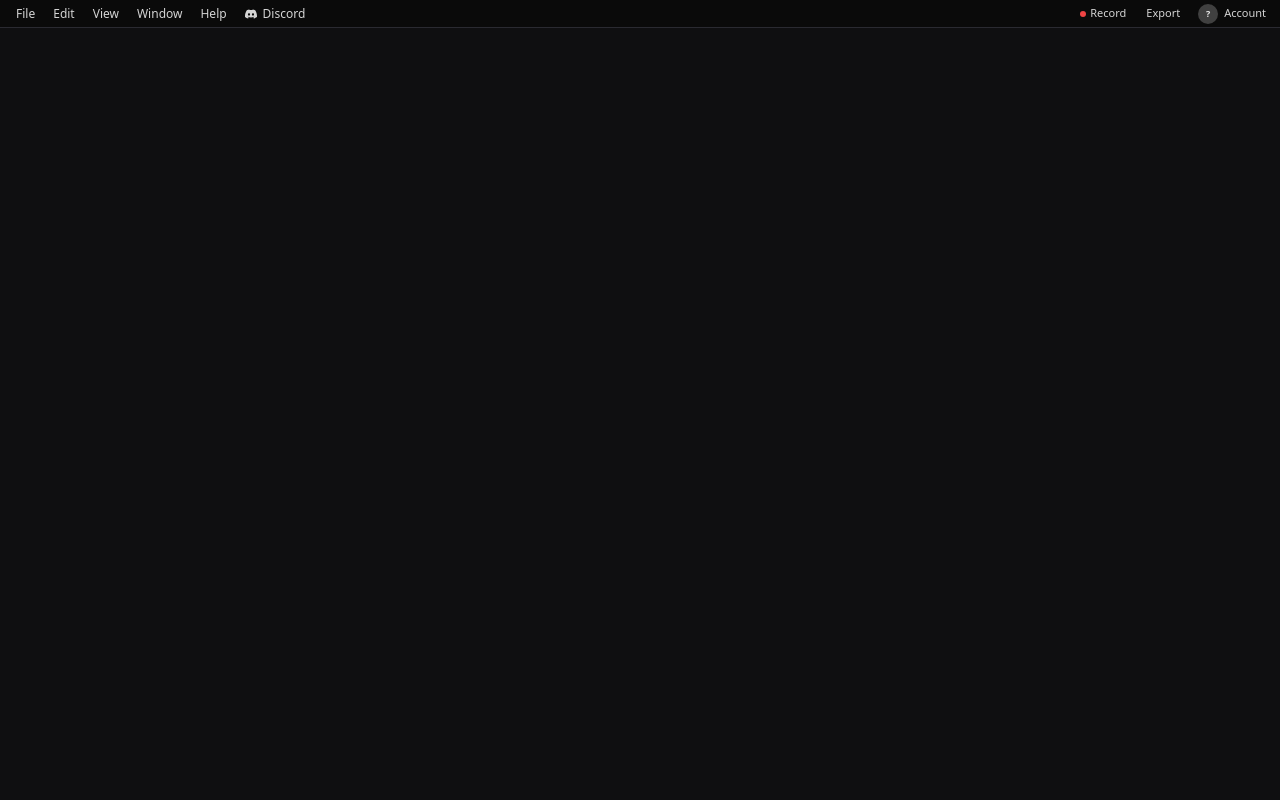
Export Video → Save As › renders to the folder the user picked, through the same export tool
Click the button "File" at (26,14), box [8,2,43,24]
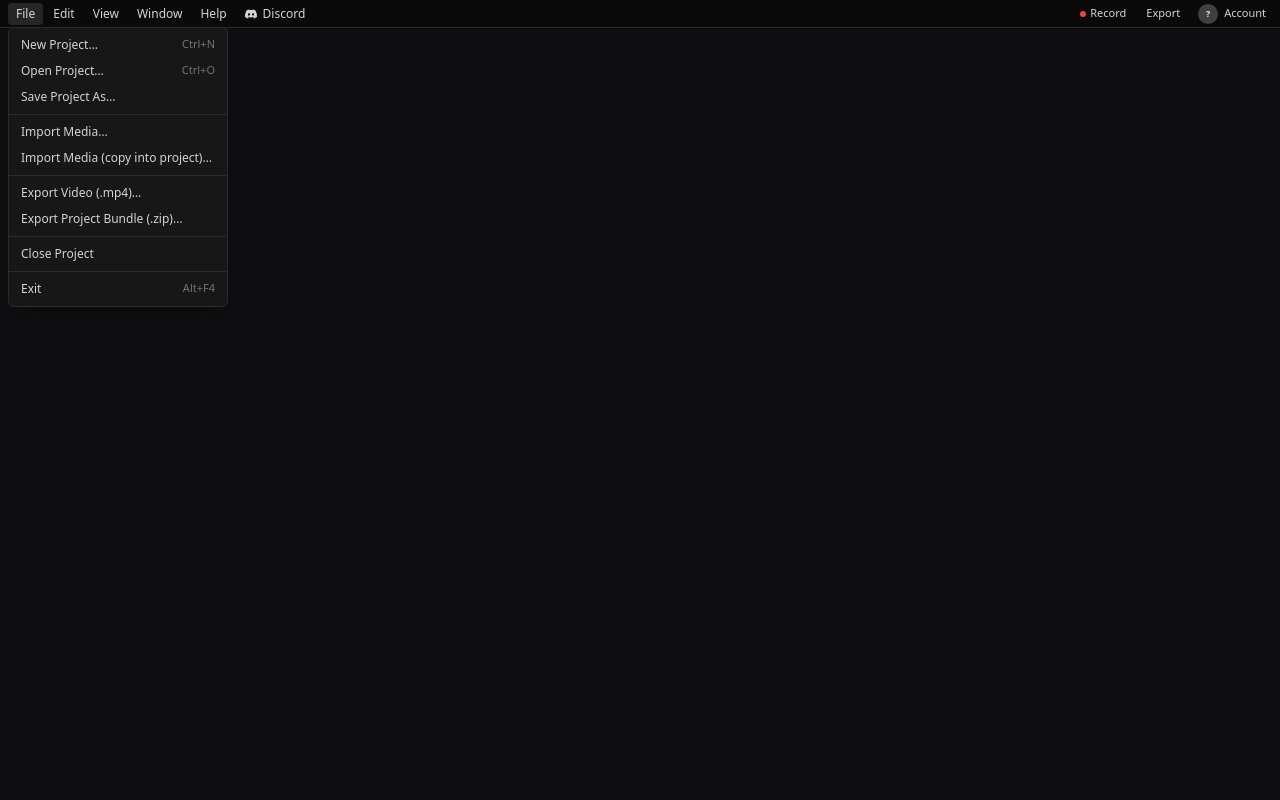
Click the button "Export Video (.mp4)…" at (118,192), box [9,180,227,206]
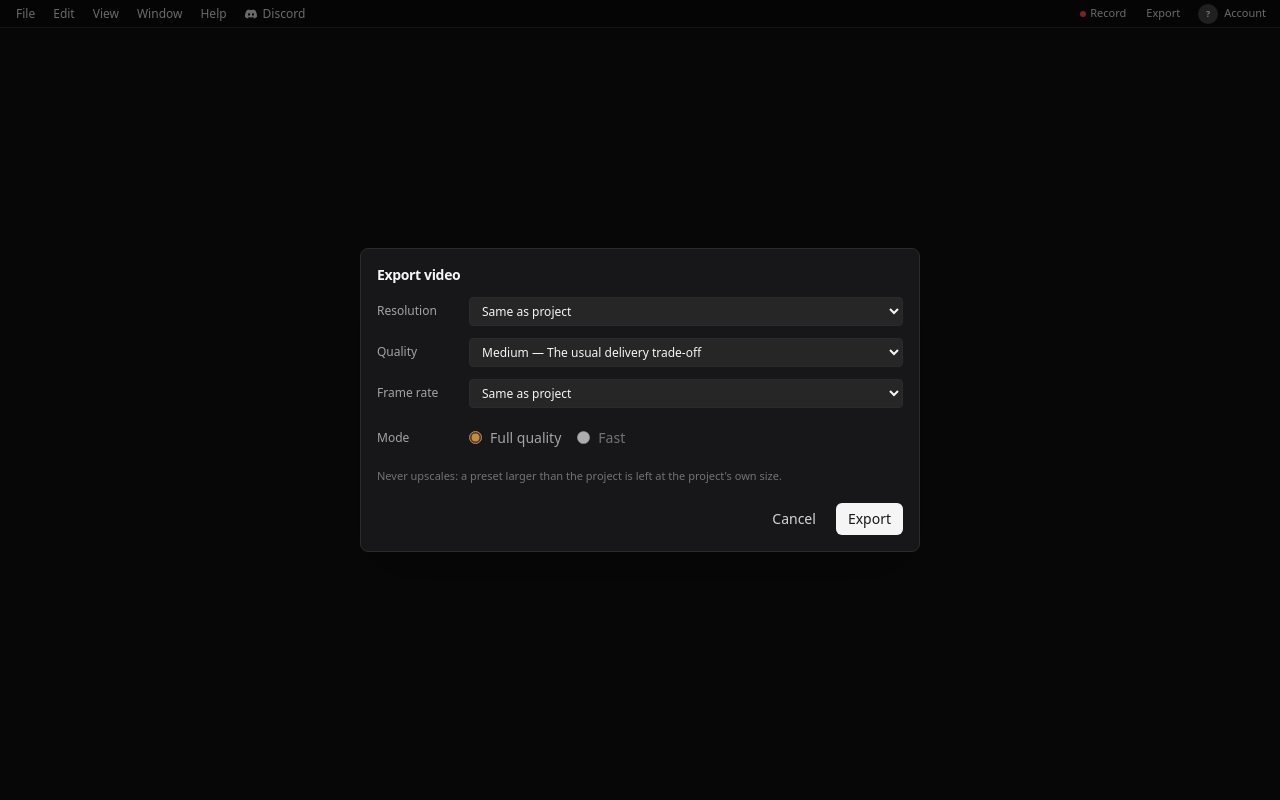
Click the button "Export" at (869,519), box [836,503,903,535]
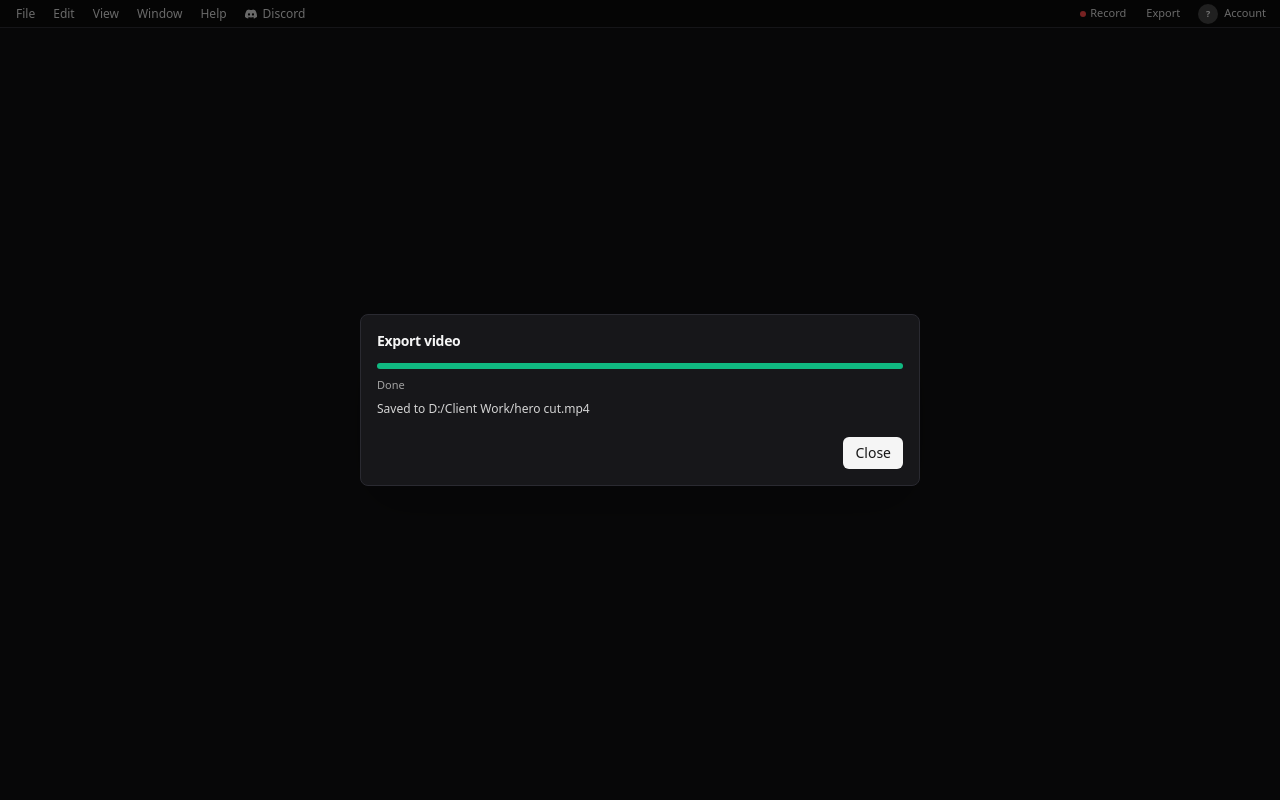
Check: the text "Saved to D:/Client Work/hero cut.mp4" is shown, box [377,400,590,417]
